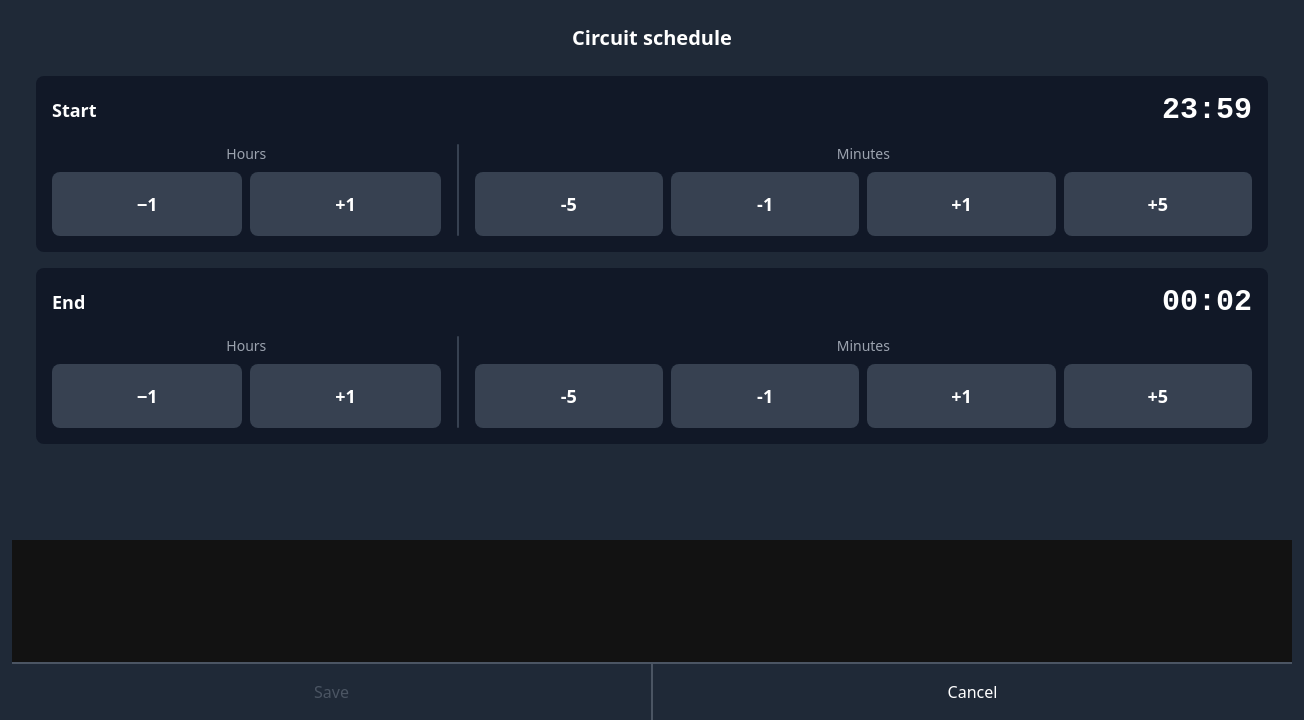
Scenario: TimeRangeScheduleBody › keeps the modal open and reports a service failure
The width and height of the screenshot is (1304, 720).
Click the button named "Increase start minutes by 1". click: (961,204)
box: x1=867 y1=172 x2=1056 y2=236
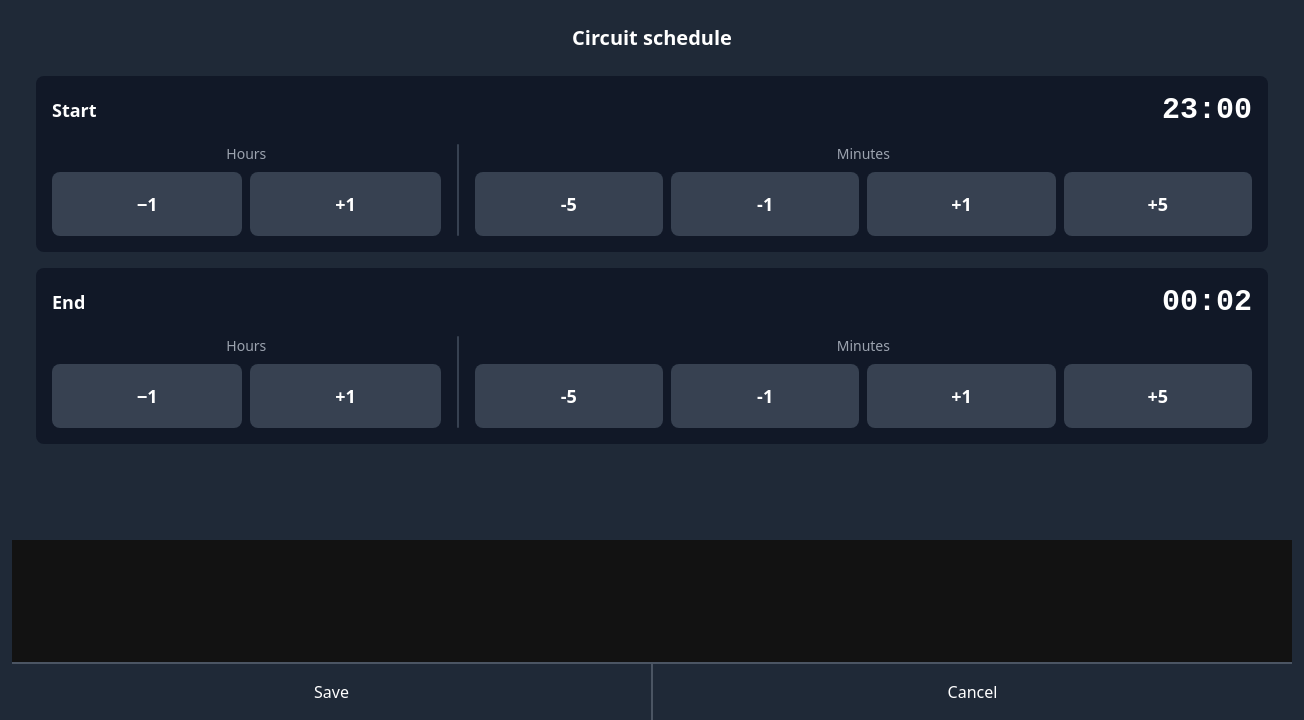
Click the button with test id "modal-button-Save". click: (332,691)
box: x1=12 y1=662 x2=653 y2=719
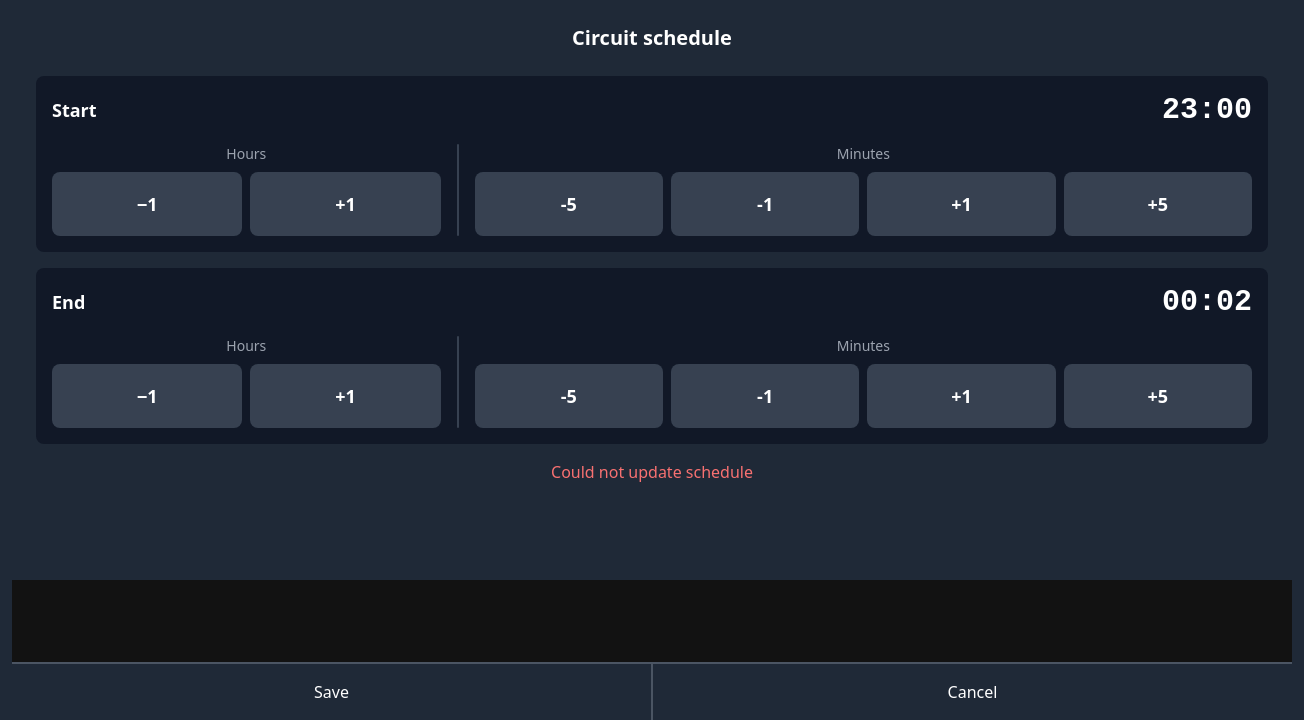
Result: the text "Could not update schedule" is shown at x1=551 y1=461 x2=753 y2=483
